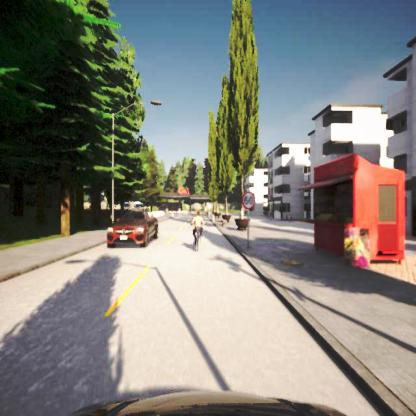bike: (190, 212, 204, 244)
vehicle: (106, 210, 160, 248)
